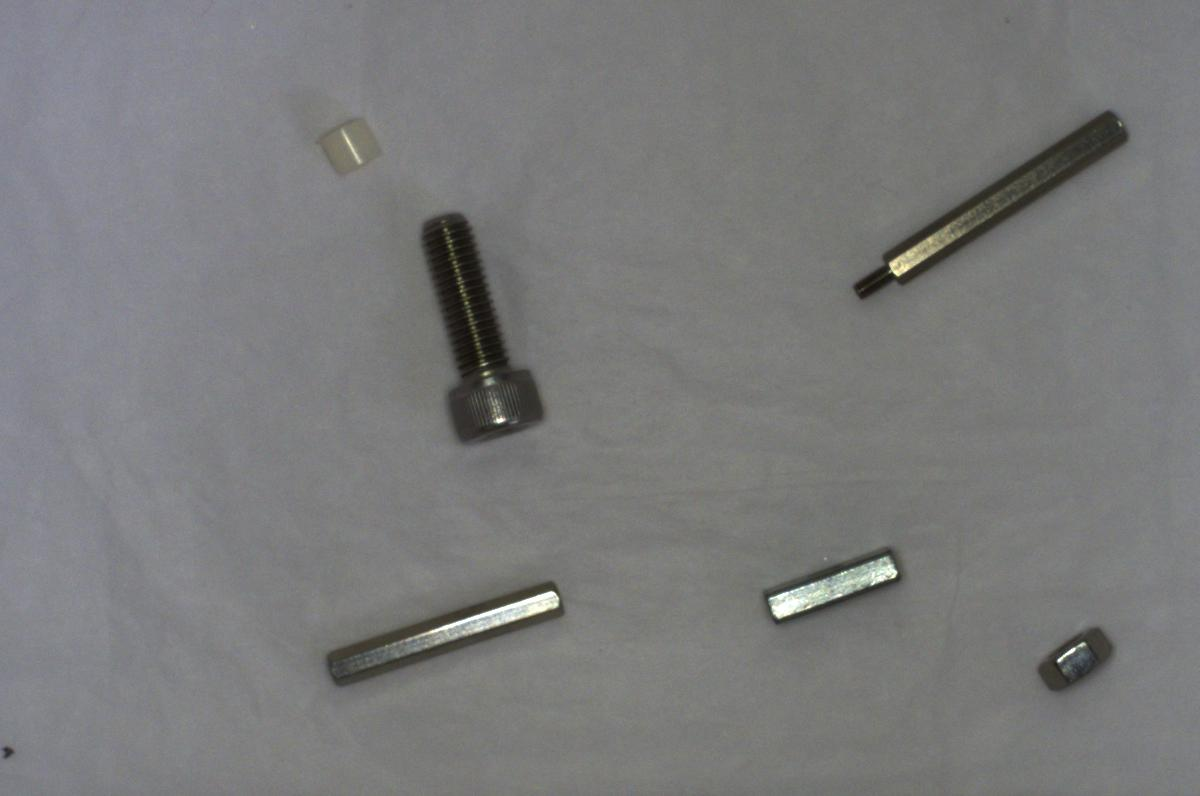Double hexagonal column: (325, 570, 573, 689)
Hexagon nut: (1035, 616, 1113, 696)
Hexagon screw: (420, 201, 553, 450)
Hexagonal steel column: (855, 100, 1128, 300)
Plastic cushion pillar: (319, 106, 386, 182)
Rectangular nut: (755, 536, 910, 629)
